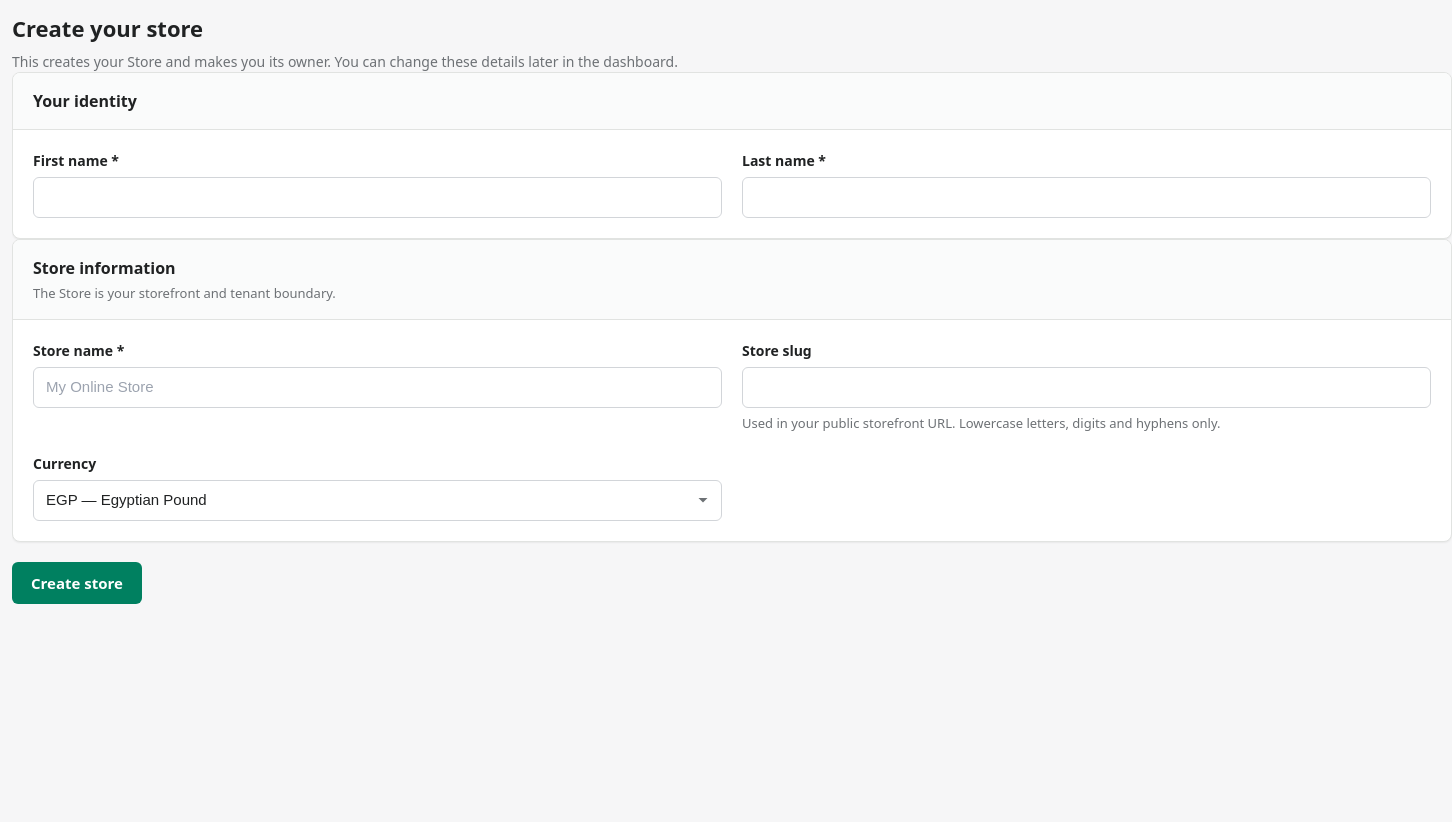
Scenario: StoreInfoStep › surfaces a slug conflict error from the API
Type "Ziad" into the field labelled "First name *" at {"x": 378, "y": 197}, box [33,177,722,218]
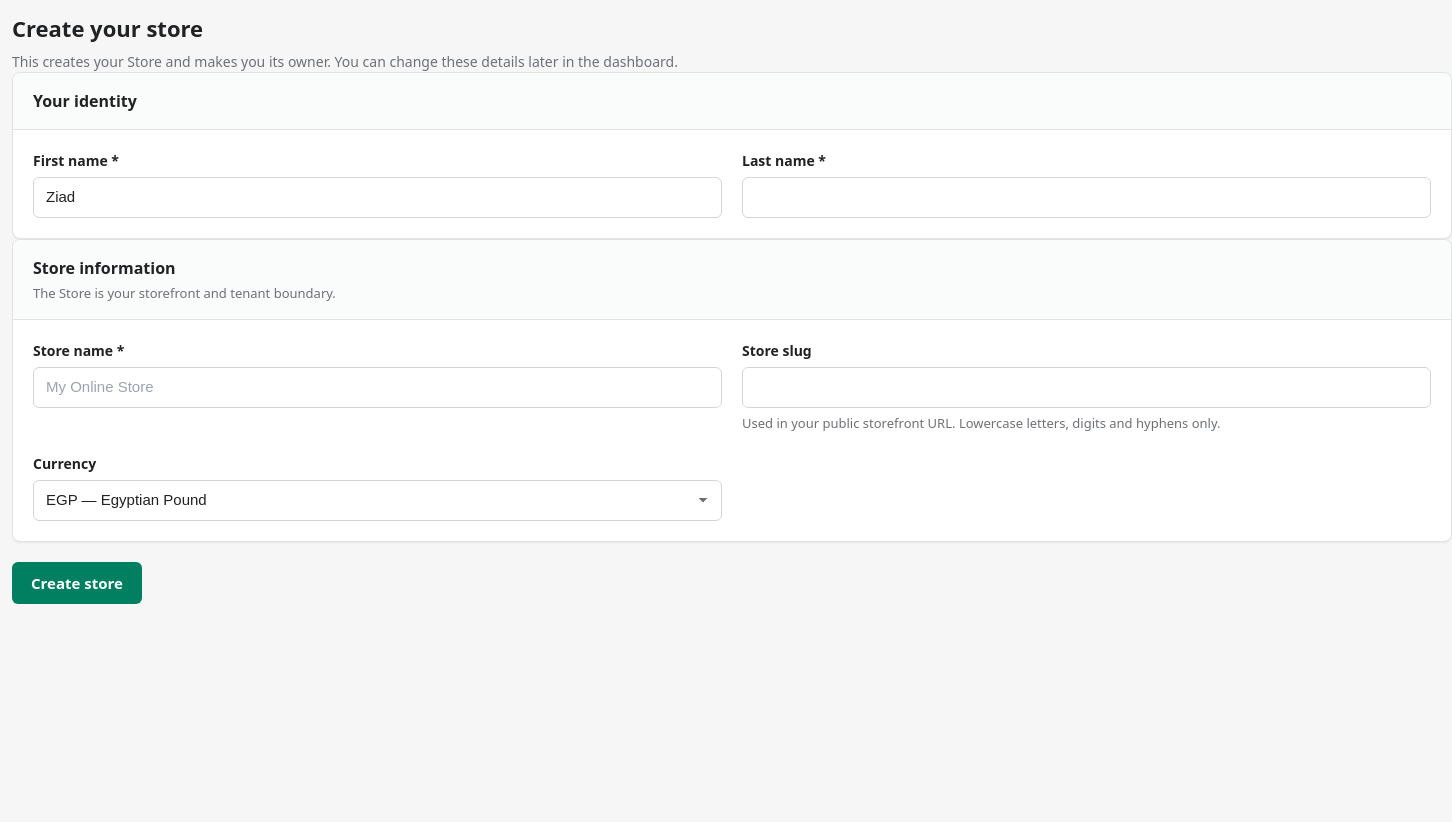
Type "Owner" into the field labelled "Last name *" at {"x": 1086, "y": 197}, box [742,177,1431,218]
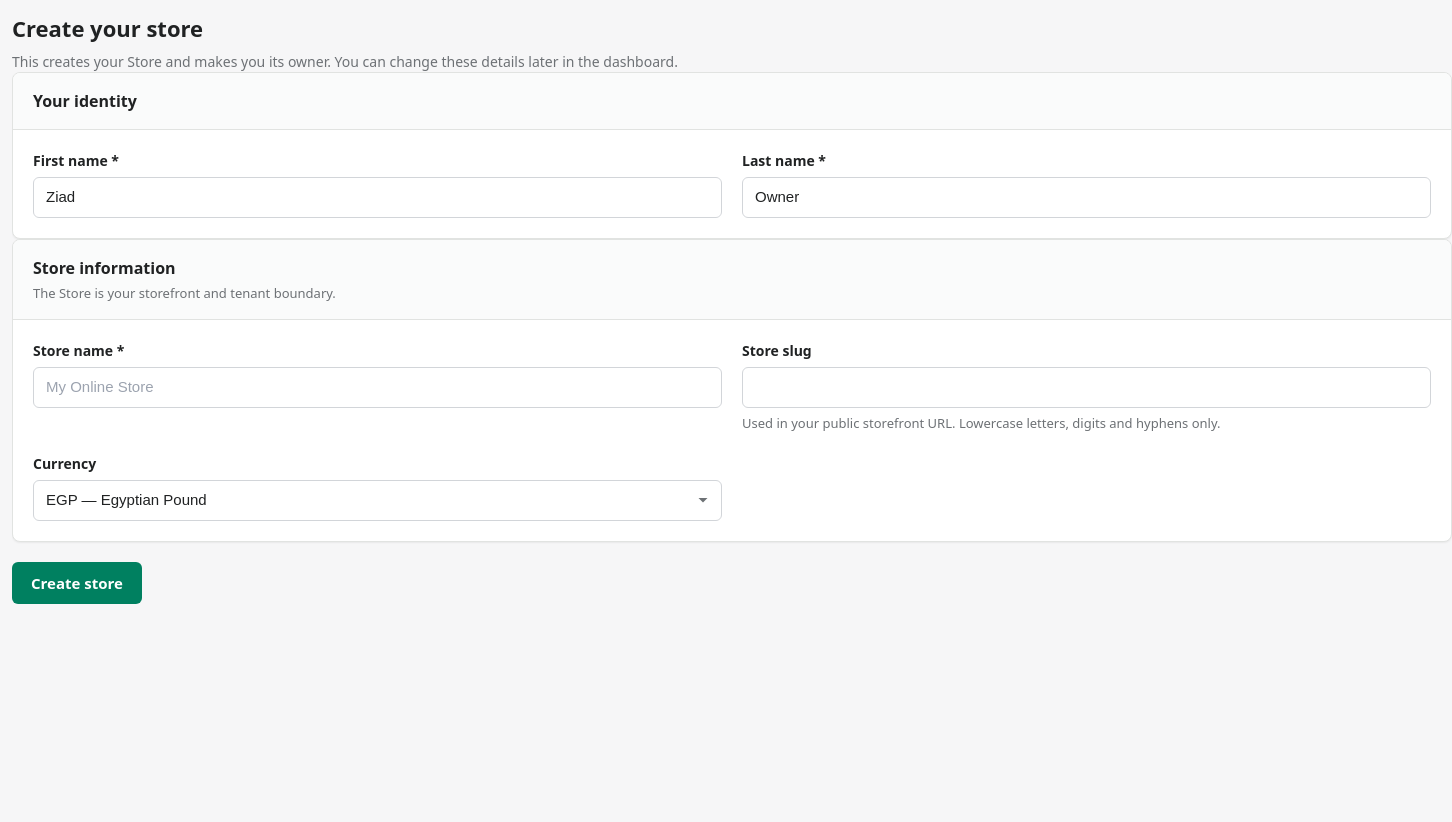
Type "Ziad Boutique" into the field labelled "Store name *" at {"x": 378, "y": 387}, box [33,367,722,408]
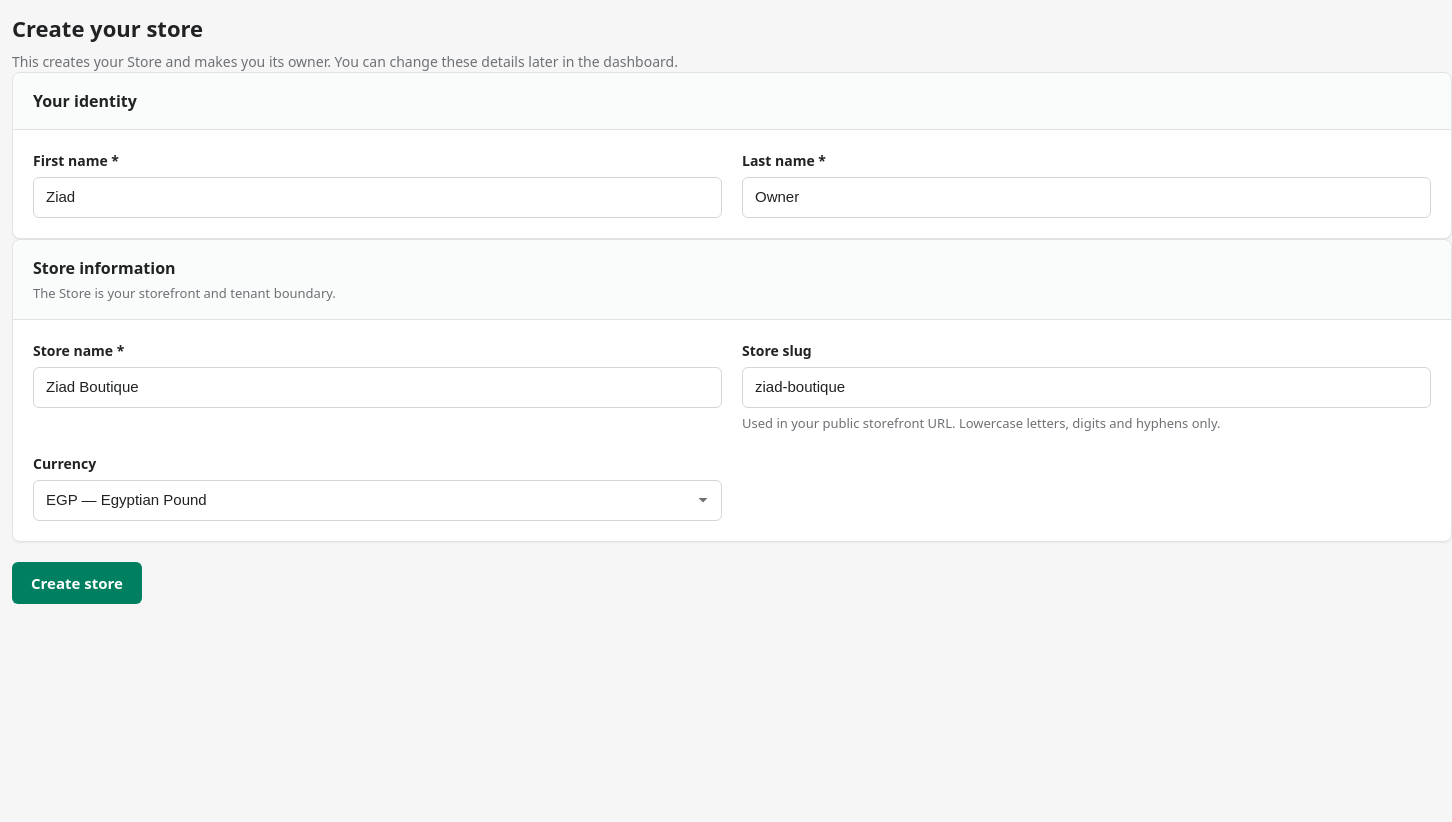
Click the button "Create store" at {"x": 77, "y": 582}, box [12,562,142,604]
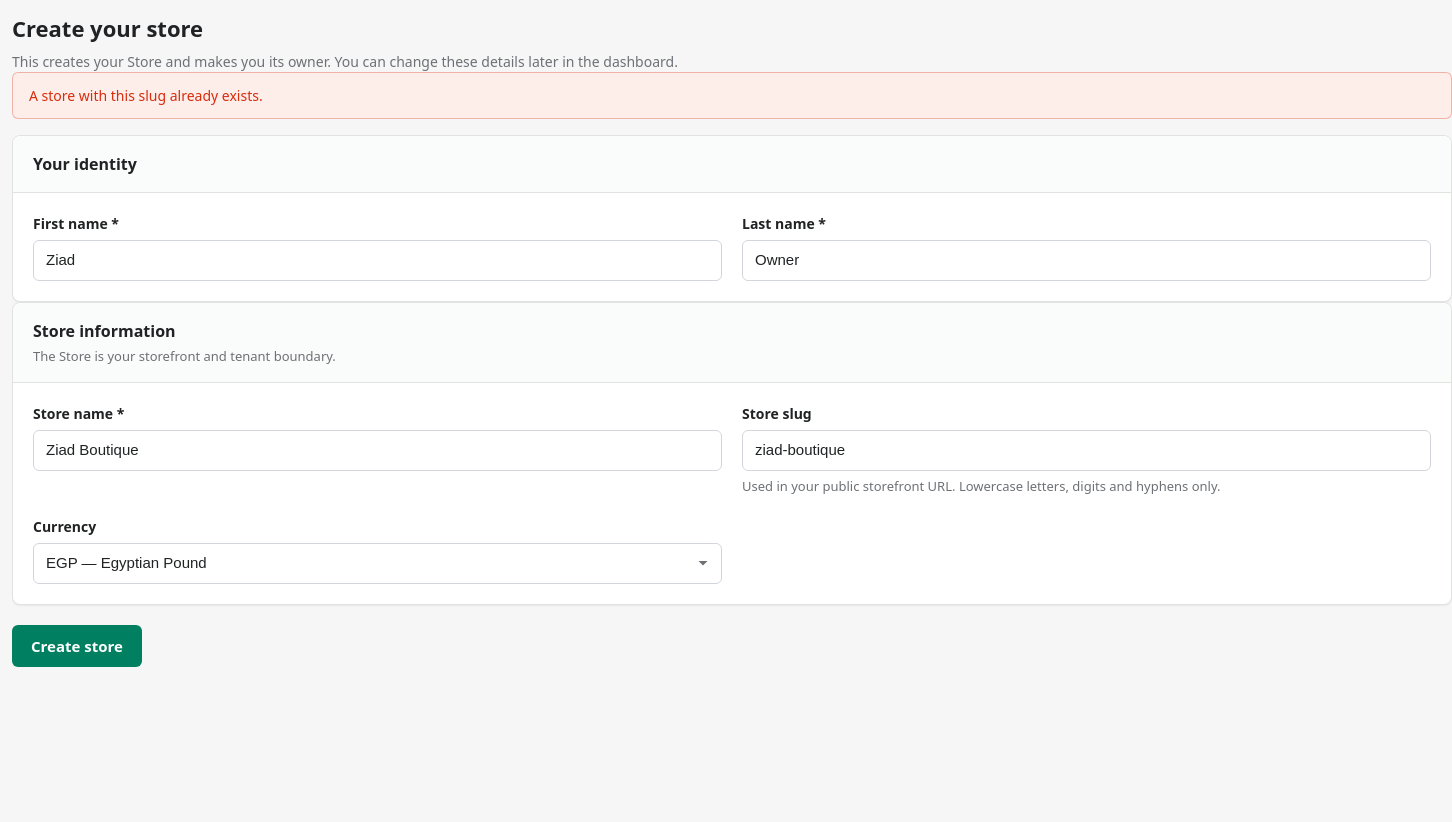
expect the message reads "A store with this slug already exists.": met, box [29,86,263,105]
